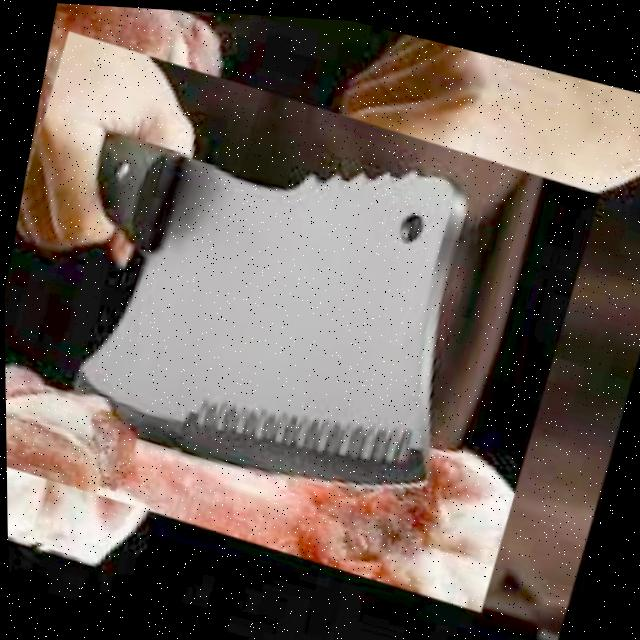knife: (42, 87, 489, 517)
